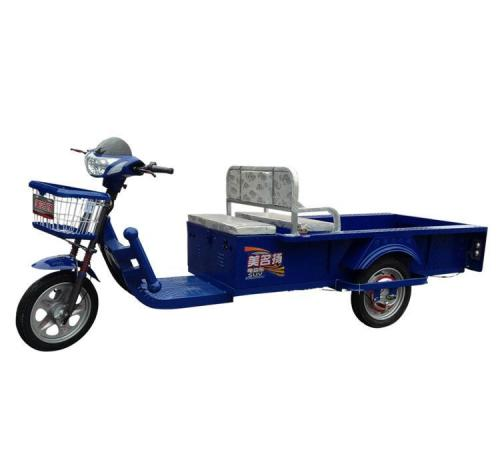tricycle: (19, 122, 484, 354)
